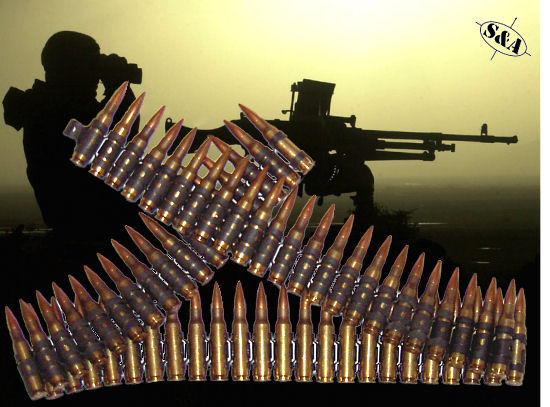rifle: (167, 108, 522, 169)
